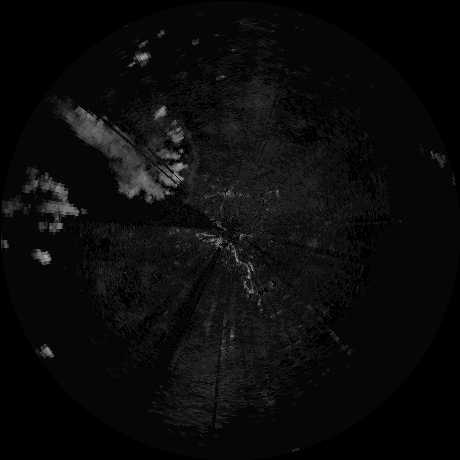frontgust: (227, 246, 258, 300), (187, 135, 201, 209)
